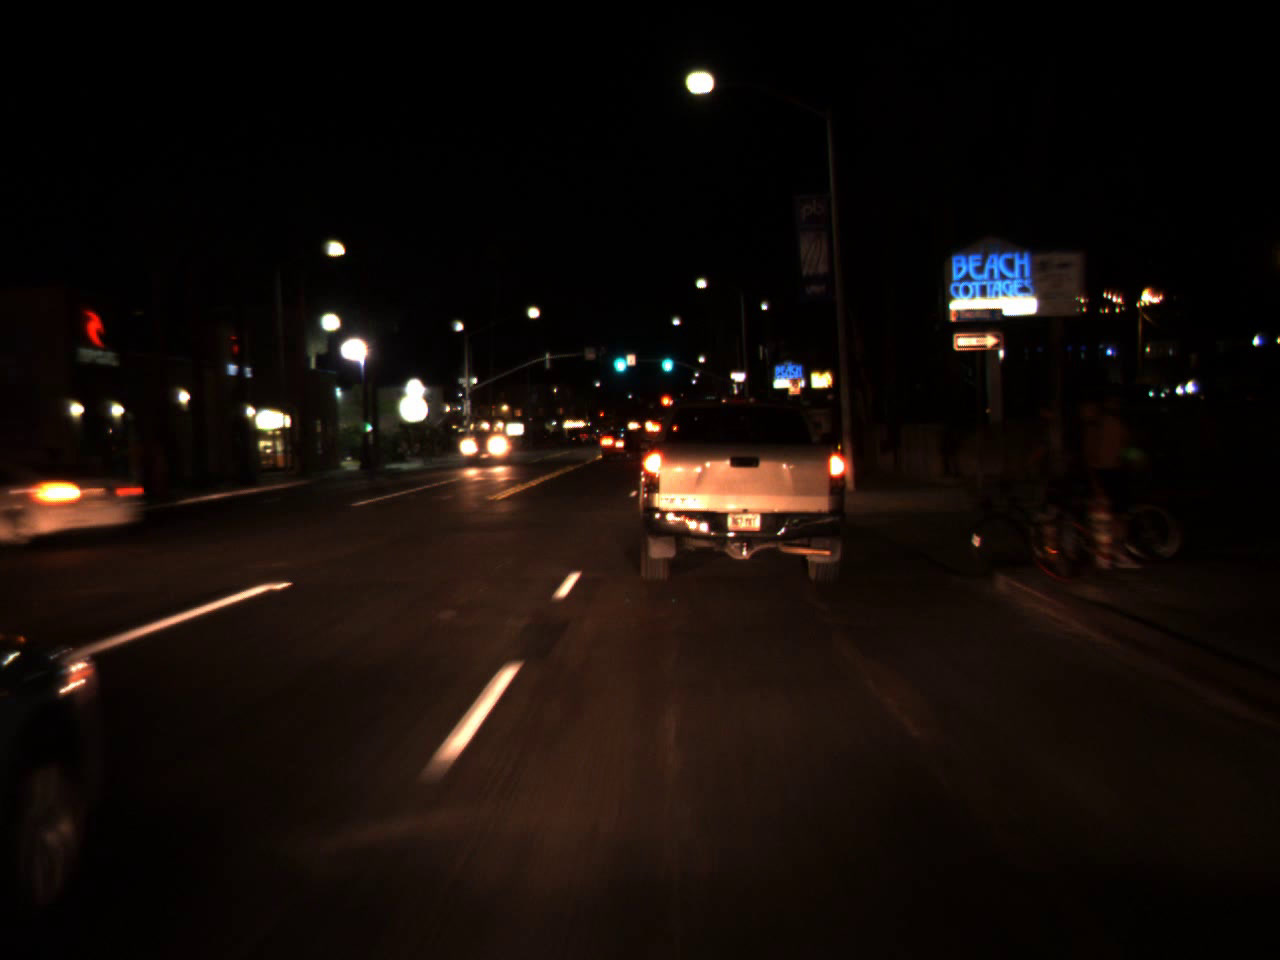go: (607, 341, 632, 377), (657, 343, 675, 376)
